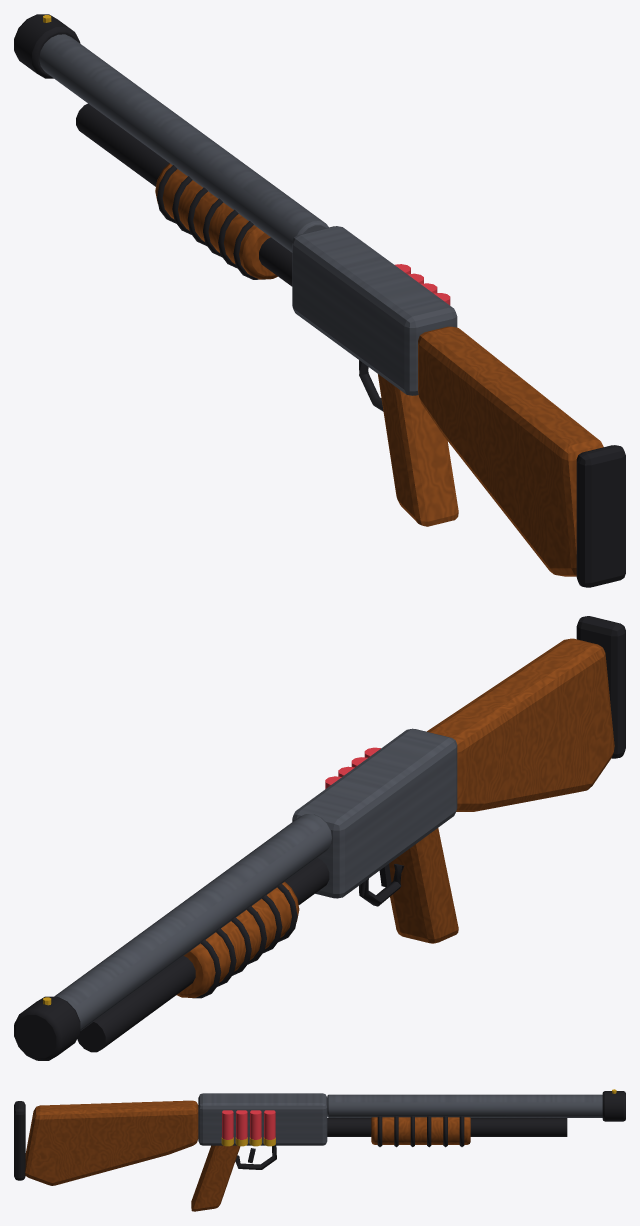
Rendered from weapon_breacher_shotgun.glb.
3 views of the same model, one above another, from view 1: azimuth 30°, elevation 25°; view 2: azimuth 150°, elevation 25°; view 3: azimuth 270°, elevation 25° (orthographic). The views are drawn at different scales.
Parts seen in each view (by area): view 1: weapon_breacher_shotgun; view 2: weapon_breacher_shotgun; view 3: weapon_breacher_shotgun.
Boxes of the visible parts, x1=… form: weapon_breacher_shotgun: x1=14, y1=14, x2=625, y2=587; weapon_breacher_shotgun: x1=14, y1=616, x2=625, y2=1060; weapon_breacher_shotgun: x1=14, y1=1089, x2=625, y2=1211.
Bounding box in the file's own units: 0.078 × 0.2217 × 1.04.
5 materials, 2 textured.
